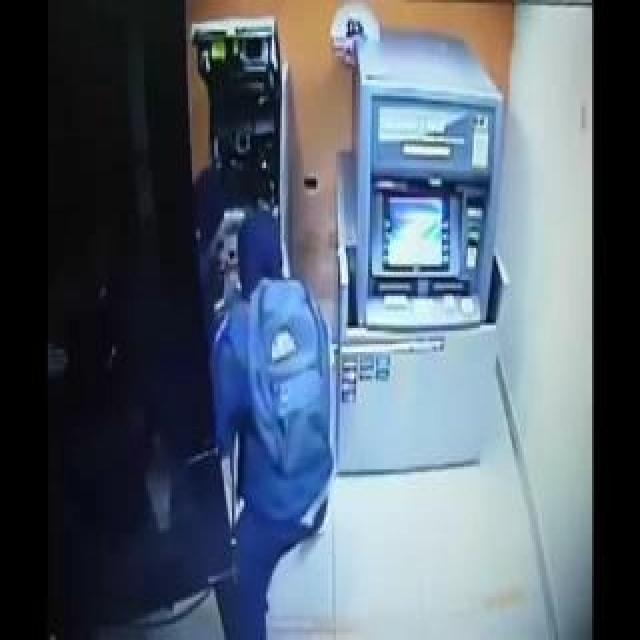thief: (138, 180, 334, 420)
